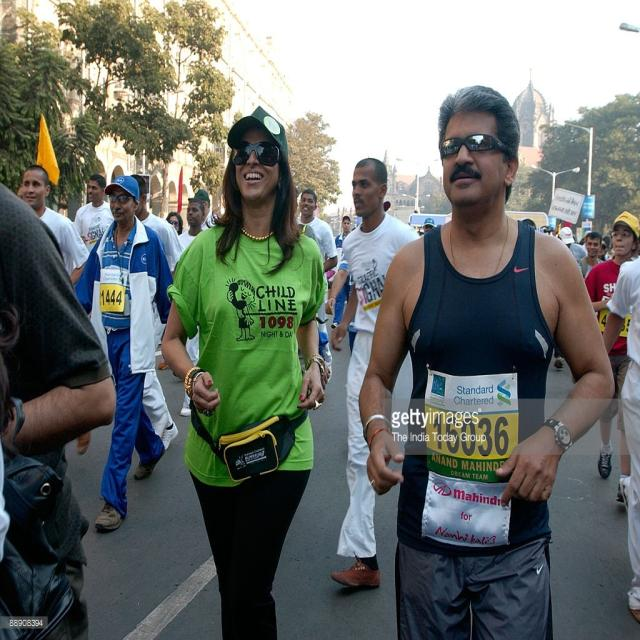body: (354, 74, 620, 639), (160, 98, 332, 640), (0, 165, 117, 640), (328, 157, 422, 592), (72, 173, 174, 534), (578, 203, 640, 518), (128, 173, 186, 452), (599, 253, 640, 634), (293, 188, 339, 386), (19, 164, 92, 288), (176, 195, 206, 418), (323, 211, 361, 357), (161, 188, 223, 244), (74, 173, 115, 254), (540, 222, 615, 254), (150, 297, 172, 373), (412, 213, 444, 240), (573, 253, 600, 285), (545, 339, 564, 376)
